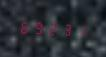nine: (32, 18, 45, 36)
one: (74, 21, 87, 38)
six: (18, 18, 31, 35)
three: (60, 20, 73, 38)
two: (46, 19, 59, 37)
